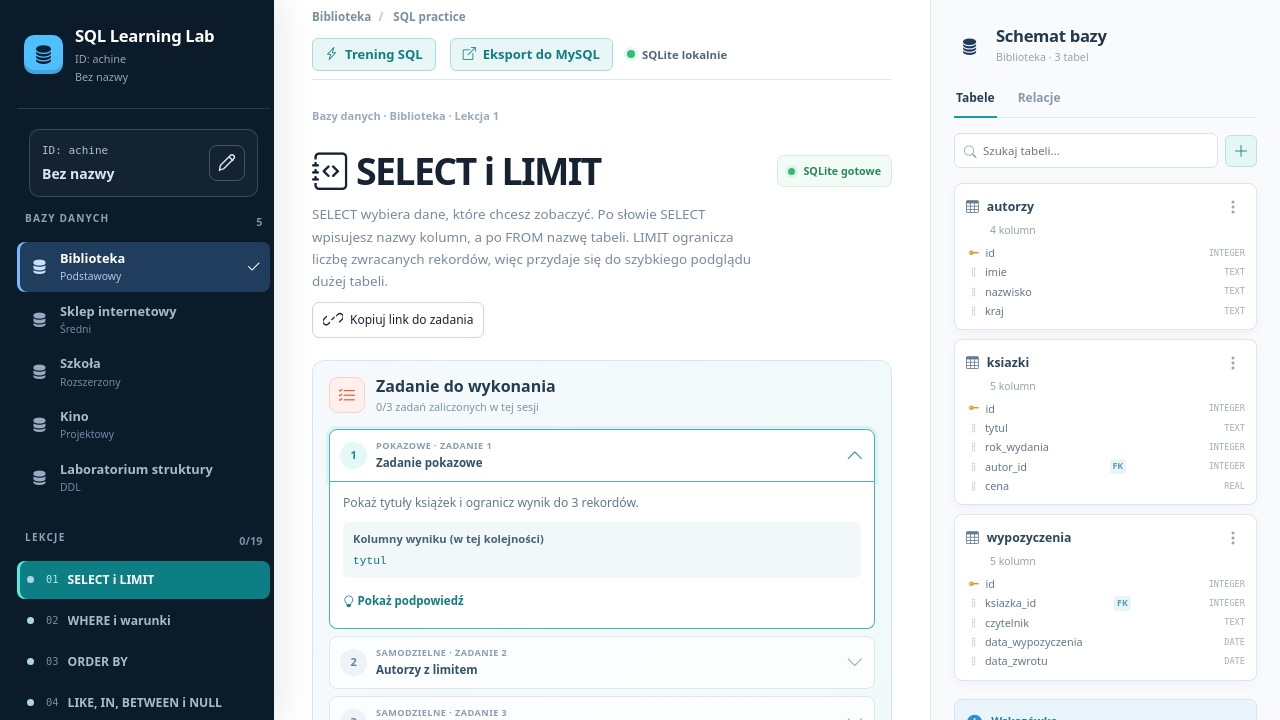
Test: opens the MySQL export modal with a generated script for the active dataset
This screenshot has width=1280, height=720.
Click the button "Eksport do MySQL".
click(531, 54)  # box [450, 38, 613, 71]
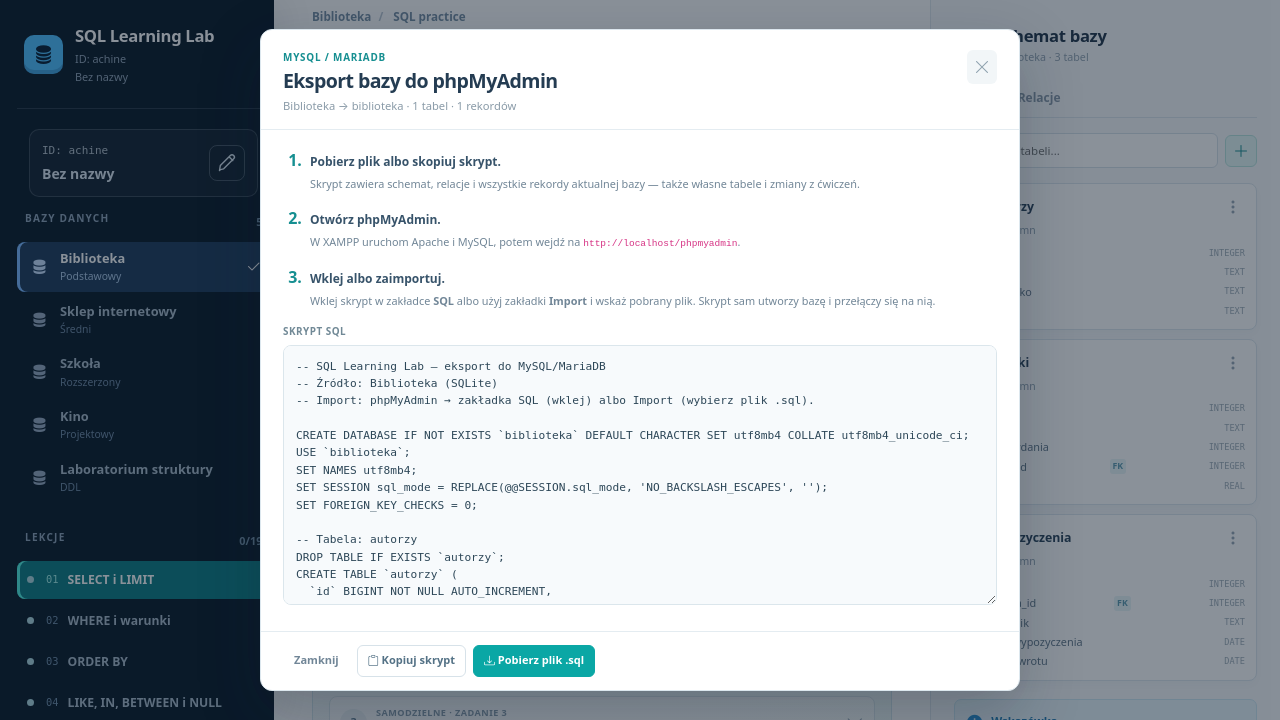
Expected: the dialog "Eksport bazy do phpMyAdmin" is shown, [260, 29, 1020, 691]
Expected: the button "Pobierz plik .sql" is shown, [473, 645, 595, 677]
Expected: the button "Kopiuj skrypt" is shown, [357, 645, 466, 677]
